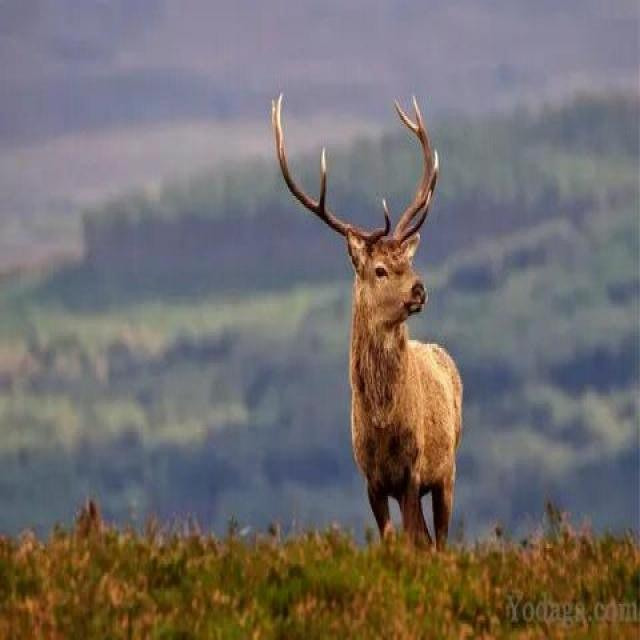deer: (249, 61, 485, 560)
